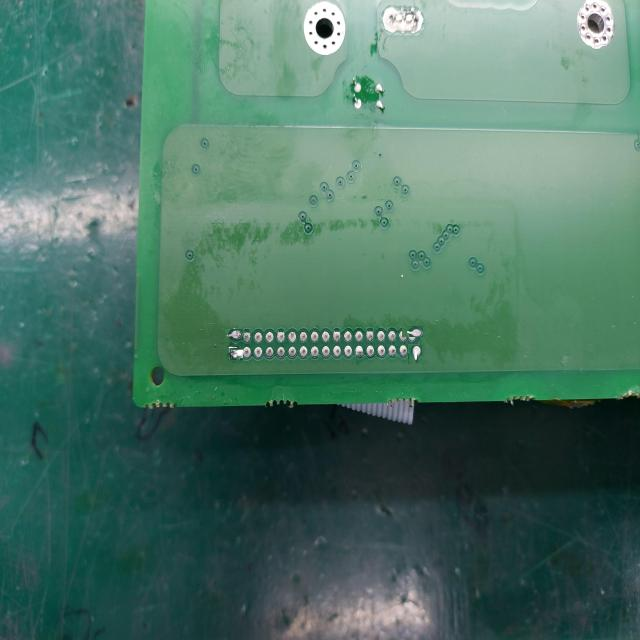slug: (408, 344, 422, 364), (405, 323, 421, 340), (226, 327, 242, 343), (226, 347, 242, 363)
